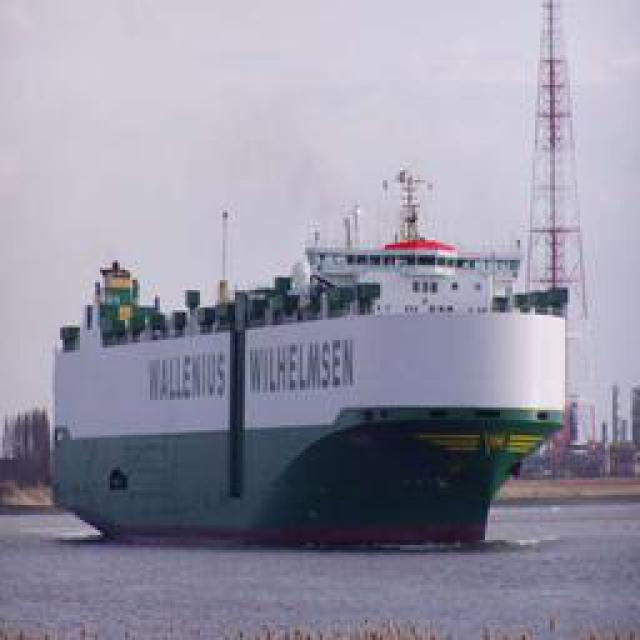Ship: (53, 178, 561, 546)
